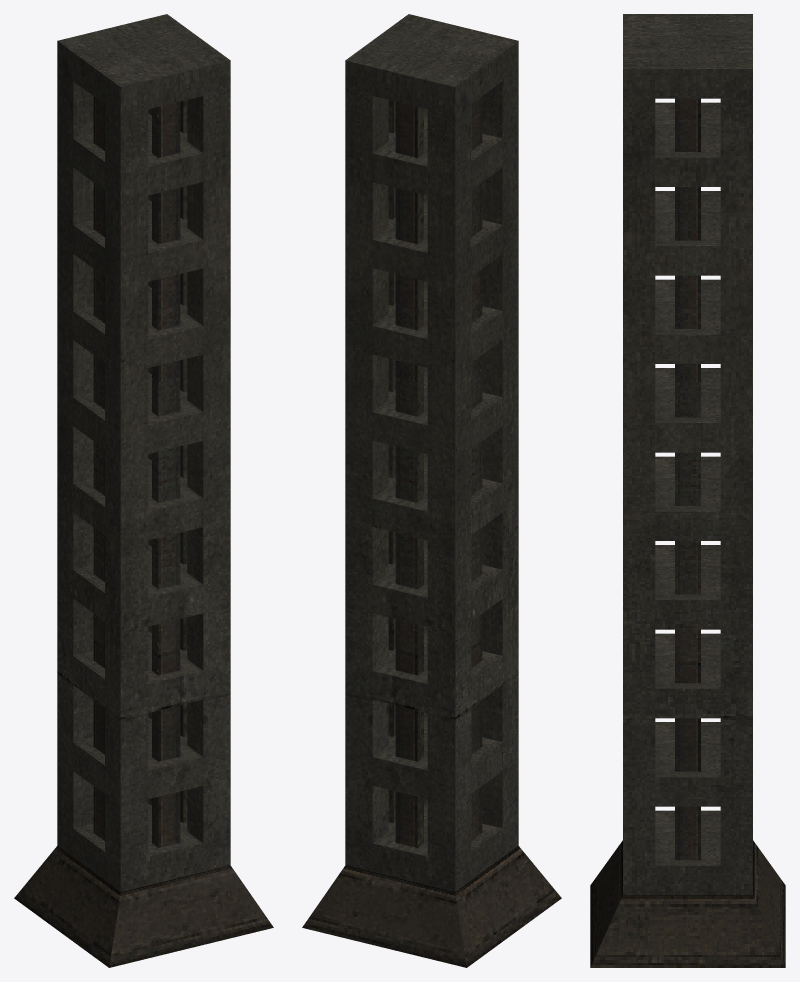
The model's file is pillar_rgx_2.glb.
3 views of the same model, side by side, from view 1: azimuth 30°, elevation 25°; view 2: azimuth 150°, elevation 25°; view 3: azimuth 270°, elevation 25° (orthographic). The views are drawn at different scales.
Parts seen in each view (by area): view 1: pillar_rgx_2; view 2: pillar_rgx_2; view 3: pillar_rgx_2.
Part boxes in pixels (x1,y1,x2,y2): pillar_rgx_2: (14, 14, 273, 967); pillar_rgx_2: (302, 14, 561, 967); pillar_rgx_2: (590, 14, 785, 967).
Bounding box in the file's own units: 0.6 × 3 × 0.6.
Materials: 2 (2 with a texture image).
